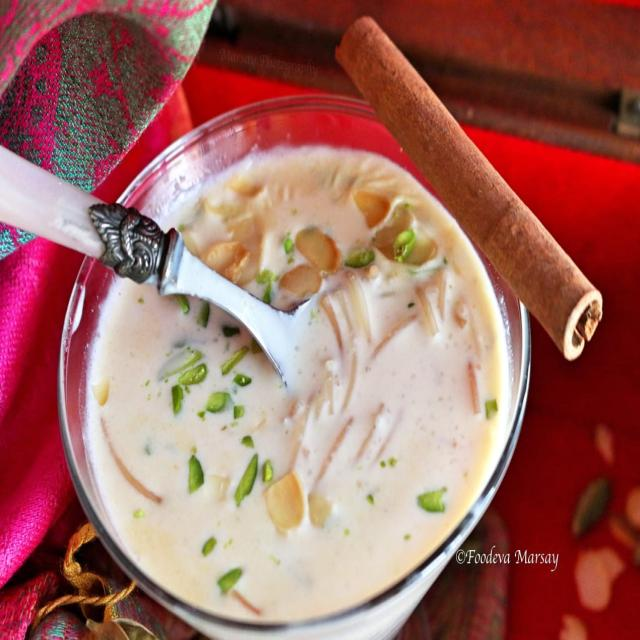shavige payasa: (74, 129, 526, 639)
